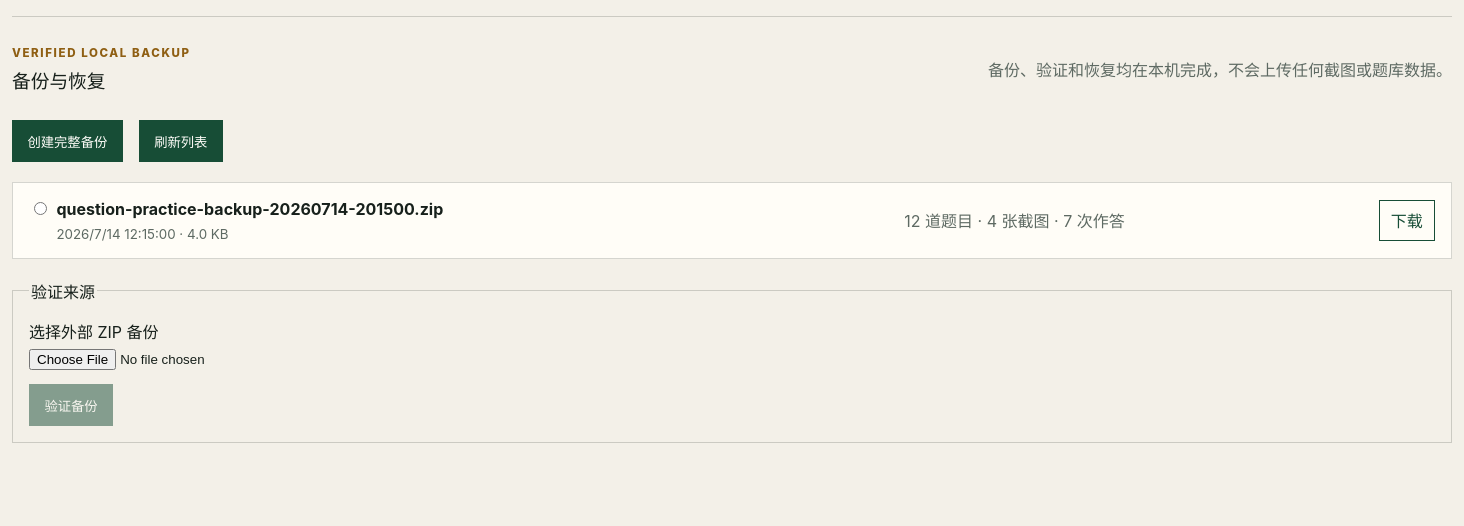
Test: 备份与恢复工作区 › lists, creates, refreshes and exposes a real download link
Expected: the text "question-practice-backup-20260714-201500.zip" is shown, 56,199 -> 443,219
Expected: the element named "本机备份列表" shows "12 道题目", 12,182 -> 1452,259
Step 1. Click the button "创建完整备份" → (67, 141), box 12,120 -> 123,162
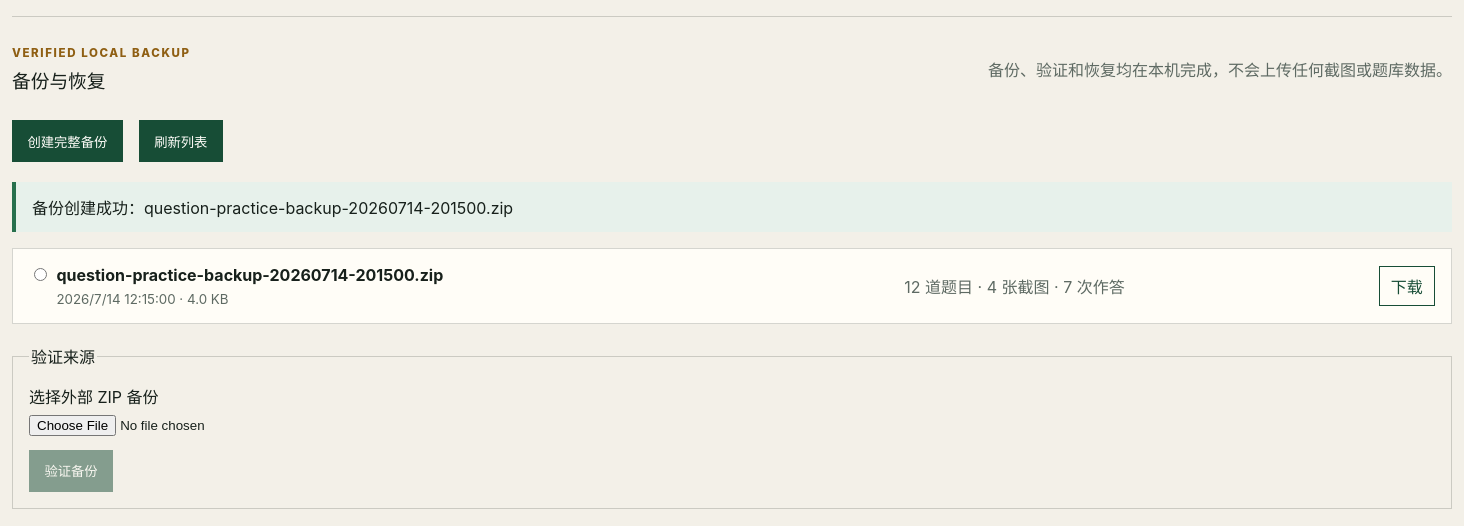
Expected: the text "备份创建成功：question-practice-backup-20260714-201500.zip" is shown, 12,182 -> 1452,232
